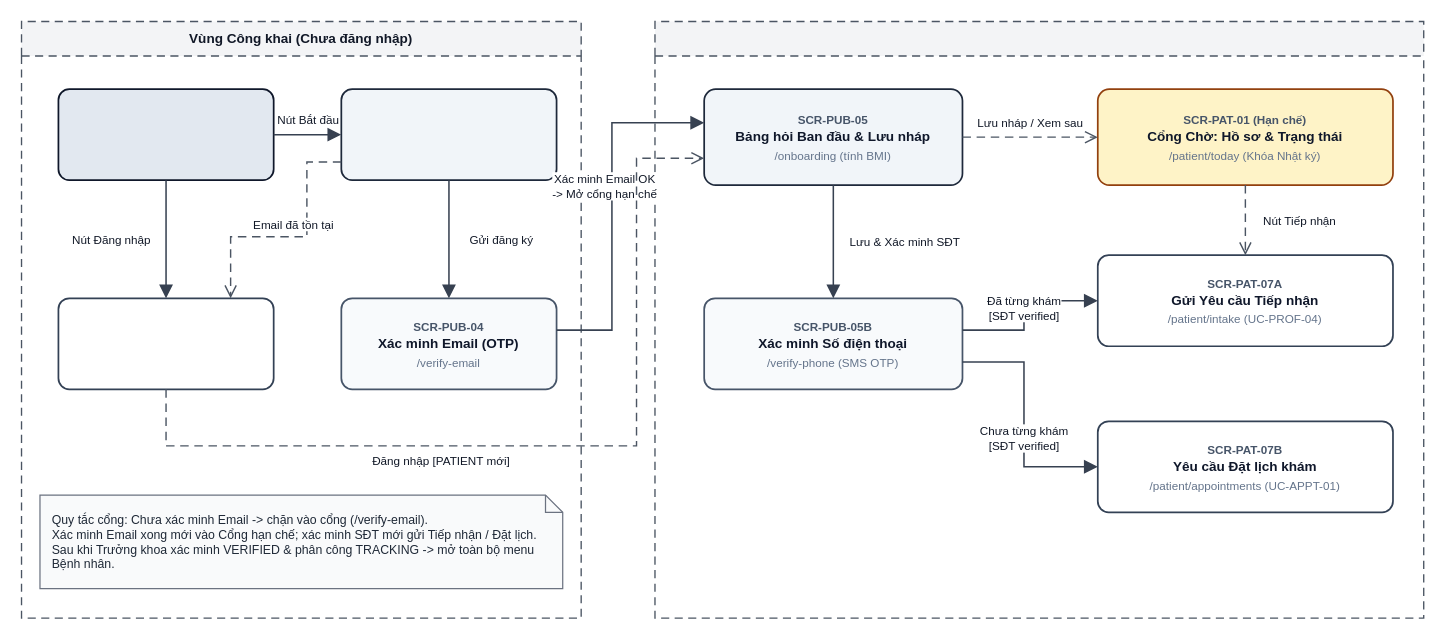
This 1446x641 diagram has some shape labels left out. Here are the shapes that lost their labels. From the top down, the box of each, then its label:
(57, 88, 274, 180): SCR-PUB-01 Trang chào mừng (Landing) /
(340, 88, 557, 180): SCR-PUB-02 Đăng ký tài khoản mới /register
(654, 20, 1424, 618): Cổng Hạn chế (Patient đã đăng nhập — trước phân công)
(57, 297, 274, 390): SCR-PUB-03 Đăng nhập & Đổi MK /login | /change-password
